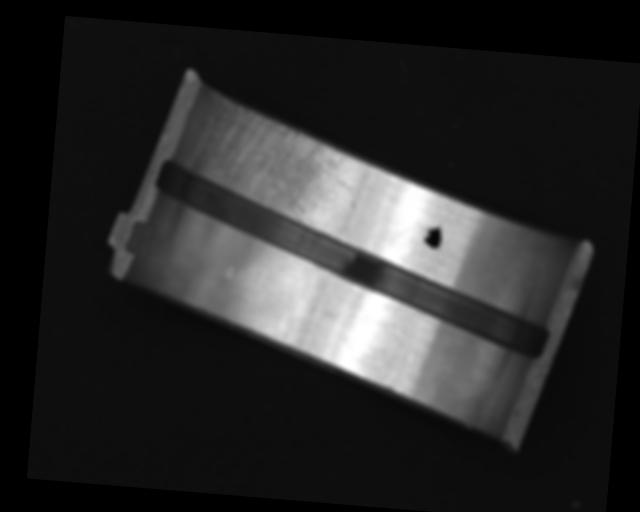blot: (420, 220, 445, 250)
bruise: (225, 263, 235, 279)
gap: (146, 160, 563, 359)
nick: (408, 312, 426, 362)
scratch: (197, 96, 362, 235)
